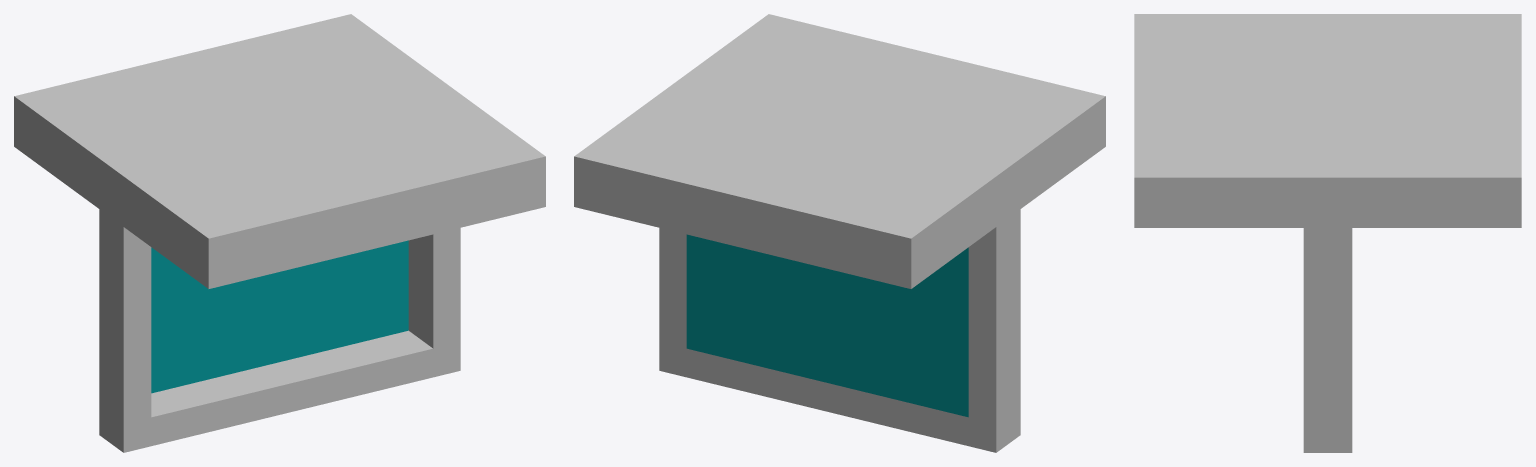
The model's file is tgate0.obj.
3 views of the same model, side by side, from view 1: azimuth 30°, elevation 25°; view 2: azimuth 150°, elevation 25°; view 3: azimuth 270°, elevation 25° (orthographic).
Parts seen in each view (by area): view 1: Cube.007_Cube.006; view 2: Cube.007_Cube.006; view 3: Cube.007_Cube.006.
Boxes of the visible parts, x1,y1,x2,y2 form: Cube.007_Cube.006: [14, 14, 545, 452]; Cube.007_Cube.006: [574, 14, 1105, 452]; Cube.007_Cube.006: [1134, 14, 1521, 452].
Bounding box in the file's own units: 80 × 62.72 × 80.
